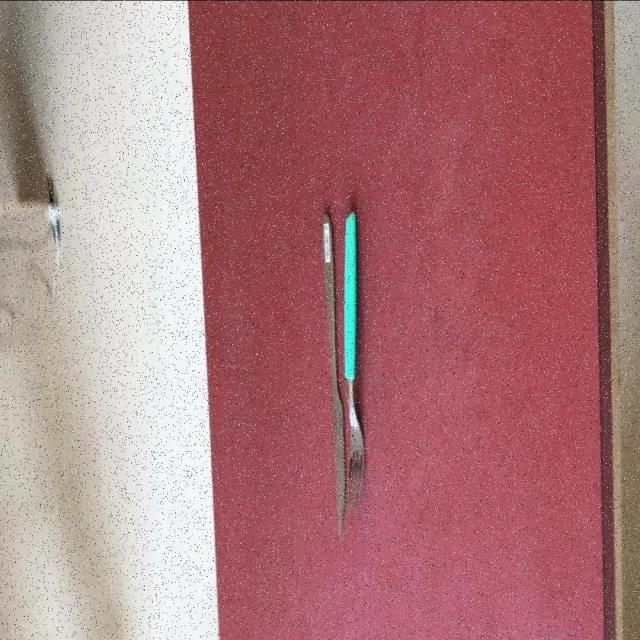Fork: (342, 210, 365, 512)
Knife: (321, 212, 346, 538)
